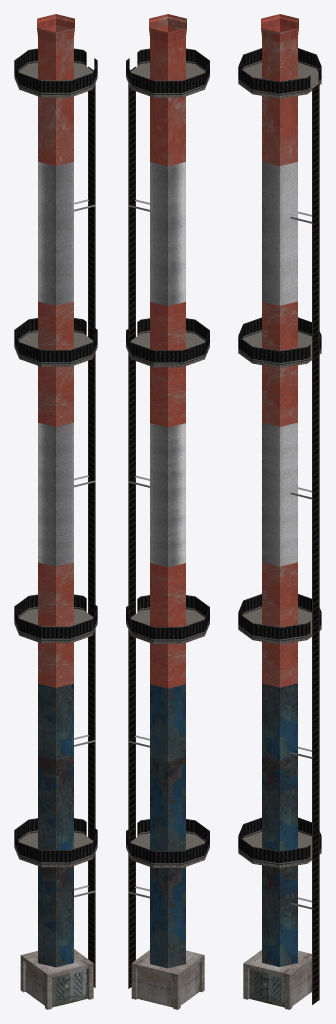
The model's file is cutnwplant09.obj.
3 renders of one model, left to right at view 1: azimuth 30°, elevation 25°; view 2: azimuth 150°, elevation 25°; view 3: azimuth 330°, elevation 25°, orthographic.
Parts seen in each view (by area): view 1: cutnwplant09; view 2: cutnwplant09; view 3: cutnwplant09.
Boxes of the visible parts, <box> form: cutnwplant09: <box>14,14,97,1009</box>; cutnwplant09: <box>126,14,209,1009</box>; cutnwplant09: <box>238,14,321,1009</box>.
Size of the model in its own units: 8.21 by 104 by 8.14.
Materials: 10 (9 with a texture image).
